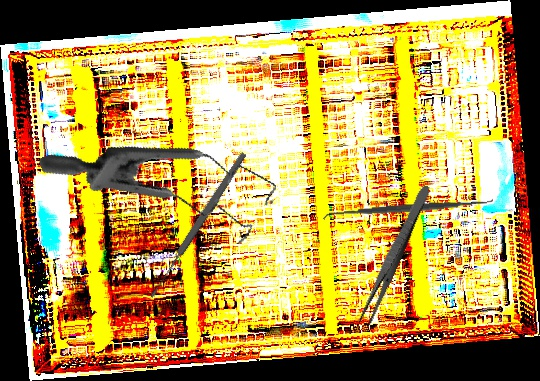Dressing Forceps: (356, 182, 433, 329)
Spatula Surgical: (322, 193, 494, 224)
Speculum: (38, 85, 290, 299)
Surgical Spoon: (146, 149, 249, 301)
